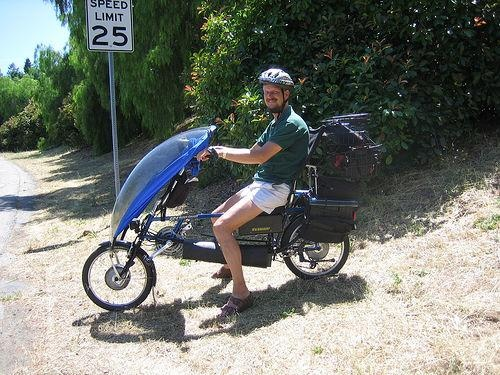person: (197, 66, 312, 318)
